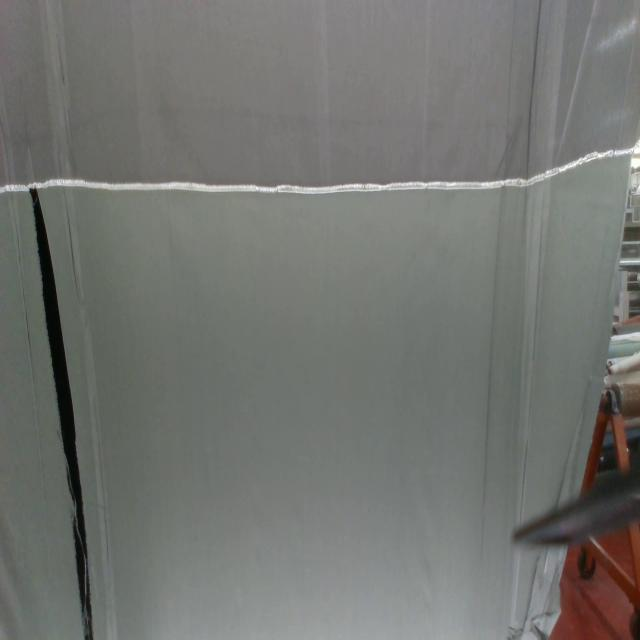crease: (36, 0, 120, 633), (506, 178, 551, 636), (0, 101, 44, 489)
hole: (32, 188, 94, 639)
